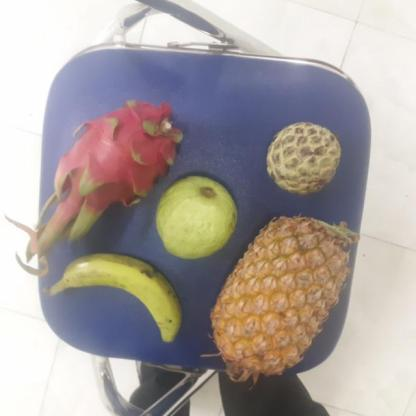annona: (263, 121, 341, 194)
guava: (152, 173, 236, 257)
pineapple: (209, 221, 350, 373)
pitaya: (56, 99, 178, 209)
